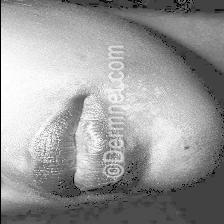Non-Cancerous Skin Condition: (0, 66, 77, 162), (136, 64, 194, 160)
